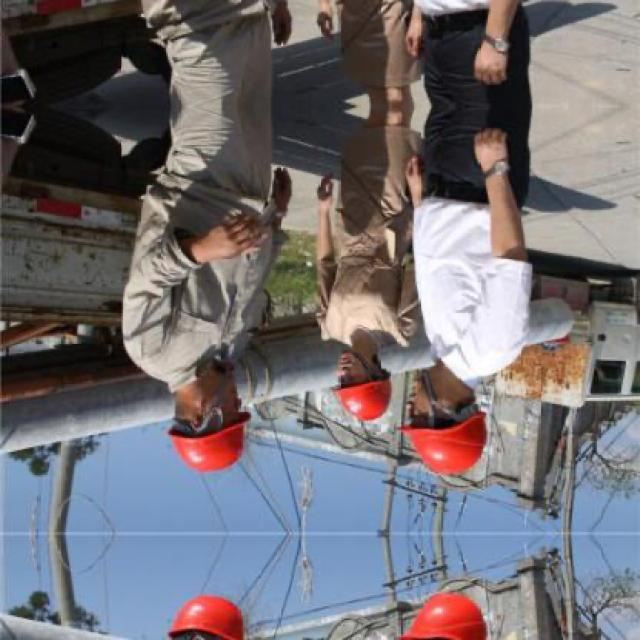con casco: (389, 355, 523, 485), (291, 334, 407, 423), (172, 366, 253, 468)
